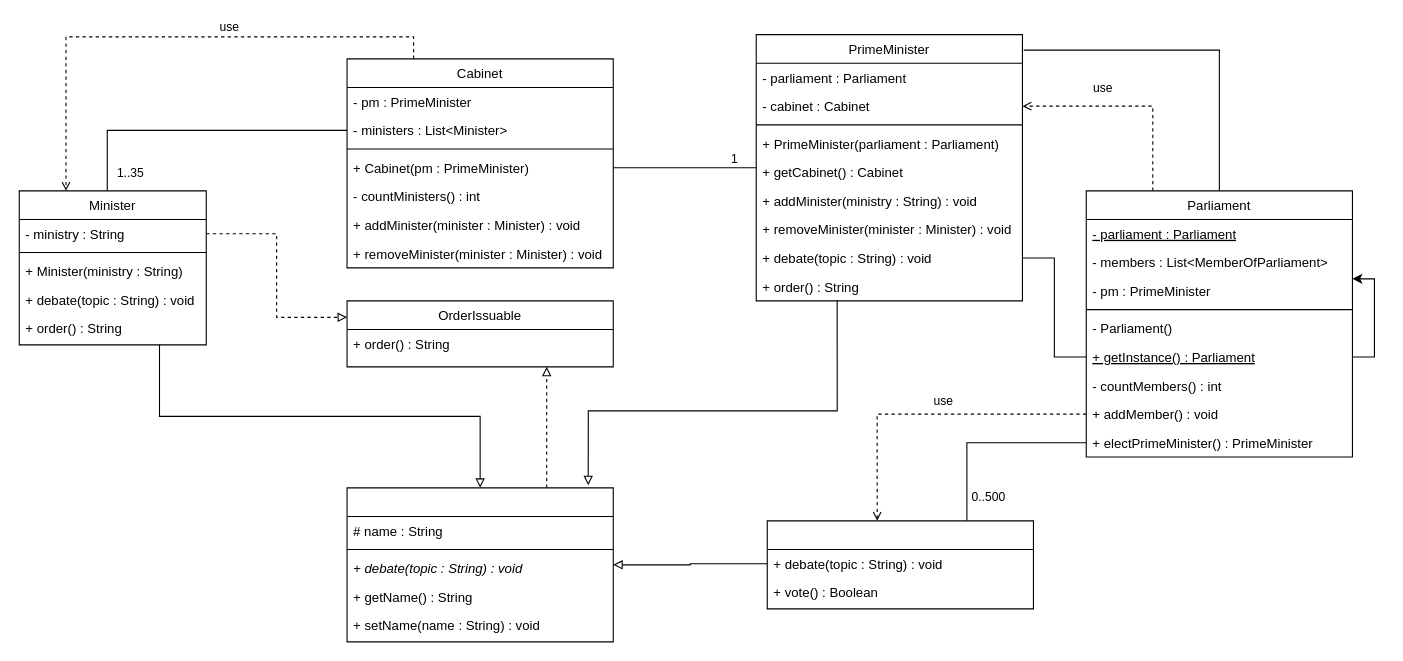
The diagram is 1403 pixels wide and 661 high, and some of its shapes have lost their labels. The box of each missing label's shape, as (x1, y1, x2, y2) in pixels:
MemberOfParliament: (766, 520, 1033, 609)
Politician: (346, 487, 613, 642)
